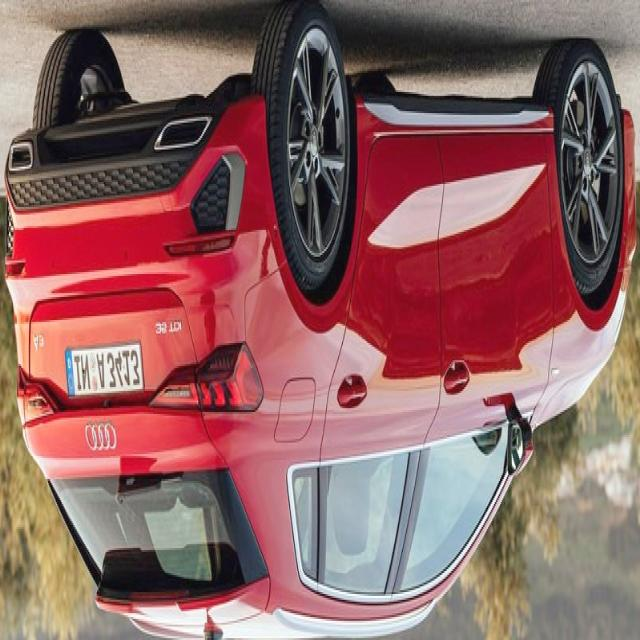red: (8, 43, 640, 640)
